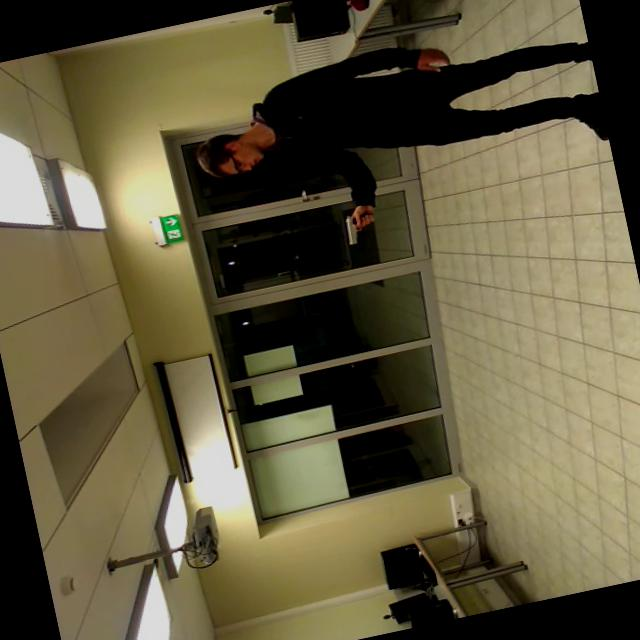handgun: (322, 190, 392, 253)
